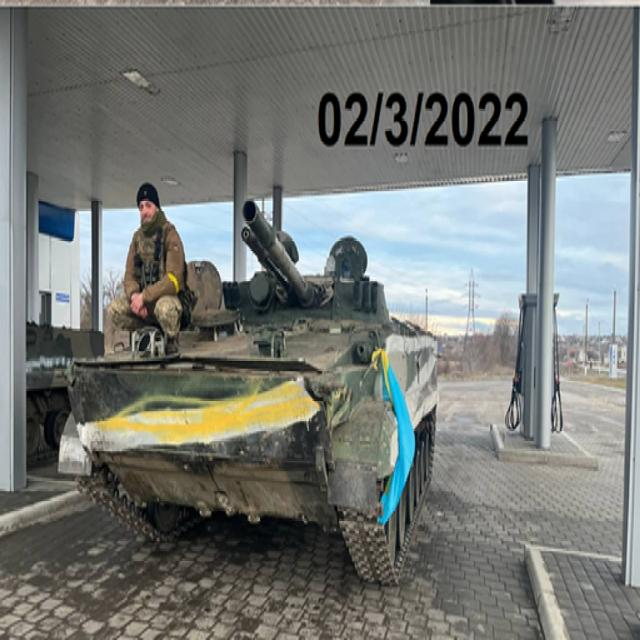APC-IFV: (62, 207, 448, 582)
